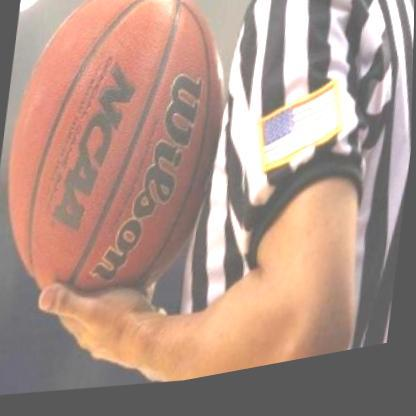basketball: (0, 0, 248, 344)
